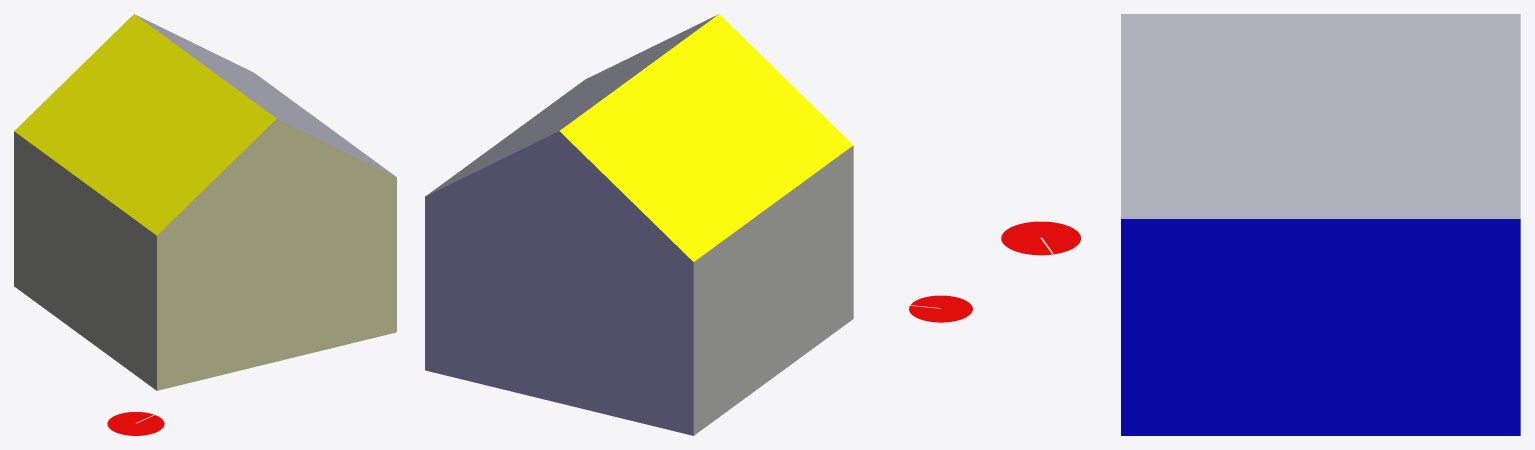
File: result.glb
The picture shows the model from 3 angles, left to right: view 1: azimuth 30°, elevation 25°; view 2: azimuth 150°, elevation 25°; view 3: azimuth 270°, elevation 25°; orthographic projection. The views are drawn at different scales.
Visible parts, largest first — view 1: a61c62de-1e8b-482a-91af-5aa3b8e7de41__undefined, 24aee89e-9052-4c19-9419-2217d2d9f415__undefined, 426309f6-6e43-4206-b5c9-87bafa53aad7__undefined, 44b111e3-17d5-4014-9ba7-c61cb5638518__undefined, fd824542-34f1-410e-b168-6866975a2648__Circle; view 2: 6eaf575d-a60f-4203-8ba8-53727099e8b7__undefined, 24aee89e-9052-4c19-9419-2217d2d9f415__undefined, 426309f6-6e43-4206-b5c9-87bafa53aad7__undefined, 44b111e3-17d5-4014-9ba7-c61cb5638518__undefined, fd824542-34f1-410e-b168-6866975a2648__Circle; view 3: 7cdd8db7-ecbc-453f-8960-191e2b5caa8b__undefined, 44b111e3-17d5-4014-9ba7-c61cb5638518__undefined, fd824542-34f1-410e-b168-6866975a2648__Circle.
Part boxes in pixels (bbox=[...]): a61c62de-1e8b-482a-91af-5aa3b8e7de41__undefined: bbox=[157, 119, 396, 390]; 24aee89e-9052-4c19-9419-2217d2d9f415__undefined: bbox=[14, 14, 276, 235]; 426309f6-6e43-4206-b5c9-87bafa53aad7__undefined: bbox=[14, 131, 156, 390]; 44b111e3-17d5-4014-9ba7-c61cb5638518__undefined: bbox=[136, 15, 395, 176]; fd824542-34f1-410e-b168-6866975a2648__Circle: bbox=[107, 412, 164, 435]; 6eaf575d-a60f-4203-8ba8-53727099e8b7__undefined: bbox=[425, 131, 693, 435]; 24aee89e-9052-4c19-9419-2217d2d9f415__undefined: bbox=[559, 14, 853, 261]; 426309f6-6e43-4206-b5c9-87bafa53aad7__undefined: bbox=[693, 145, 853, 435]; 44b111e3-17d5-4014-9ba7-c61cb5638518__undefined: bbox=[426, 15, 717, 195]; fd824542-34f1-410e-b168-6866975a2648__Circle: bbox=[909, 295, 972, 322]; 7cdd8db7-ecbc-453f-8960-191e2b5caa8b__undefined: bbox=[1121, 219, 1520, 435]; 44b111e3-17d5-4014-9ba7-c61cb5638518__undefined: bbox=[1121, 14, 1520, 218]; fd824542-34f1-410e-b168-6866975a2648__Circle: bbox=[1001, 221, 1080, 255].
Bounding box in the file's own units: 635 × 469 × 650.
